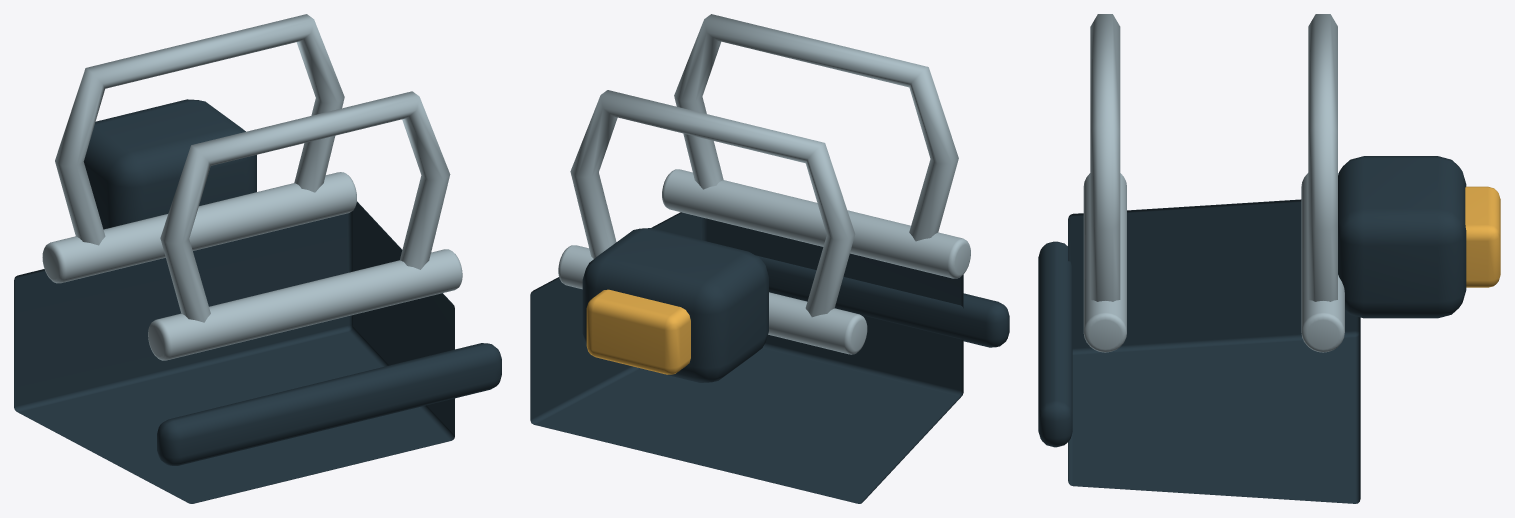
Rendered from part_binder_clip.glb.
The picture shows the model from 3 angles, left to right: view 1: azimuth 30°, elevation 25°; view 2: azimuth 150°, elevation 25°; view 3: azimuth 270°, elevation 25°; orthographic projection. The views are drawn at different scales.
Visible parts, largest first — view 1: Folded black steel body, Clamping lip, Hinged chrome handle.001, Hinged chrome handle, Universal rubber mounting pad.002, Chrome hinge.001, Chrome hinge; view 2: Folded black steel body, Universal rubber mounting pad.002, Hinged chrome handle, Hinged chrome handle.001, Chrome hinge.001, Clamping lip, Snap-in brass tongue.002, Chrome hinge; view 3: Folded black steel body, Universal rubber mounting pad.002, Hinged chrome handle.001, Hinged chrome handle, Clamping lip, Chrome hinge.001, Snap-in brass tongue.002, Chrome hinge.
Part boxes in pixels (<box>): Folded black steel body: <box>14,201,454,503</box>; Clamping lip: <box>157,343,501,465</box>; Hinged chrome handle.001: <box>160,91,450,322</box>; Hinged chrome handle: <box>55,14,344,245</box>; Universal rubber mounting pad.002: <box>83,99,256,229</box>; Chrome hinge.001: <box>148,249,462,360</box>; Chrome hinge: <box>42,172,356,283</box>; Folded black steel body: <box>530,212,963,503</box>; Universal rubber mounting pad.002: <box>582,228,768,382</box>; Hinged chrome handle: <box>570,90,855,317</box>; Hinged chrome handle.001: <box>674,14,958,241</box>; Chrome hinge.001: <box>662,169,970,278</box>; Clamping lip: <box>756,255,1009,347</box>; Snap-in brass tongue.002: <box>586,289,690,374</box>; Chrome hinge: <box>558,245,867,354</box>; Folded black steel body: <box>1068,199,1360,503</box>; Universal rubber mounting pad.002: <box>1338,156,1466,318</box>; Hinged chrome handle.001: <box>1090,14,1120,301</box>; Hinged chrome handle: <box>1308,14,1337,301</box>; Clamping lip: <box>1038,241,1072,447</box>; Chrome hinge.001: <box>1083,173,1126,352</box>; Snap-in brass tongue.002: <box>1465,186,1500,287</box>; Chrome hinge: <box>1301,173,1344,352</box>.
Bounding box in the file's own units: 0.013 × 0.0124 × 0.0149.
